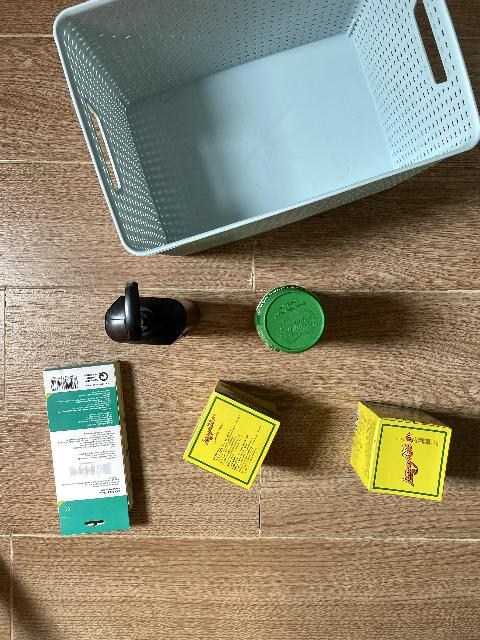4D_medical_face-mask: (43, 360, 134, 537)
X-men: (105, 282, 200, 345)
cart: (52, 0, 480, 258)
luong_kho: (183, 380, 281, 490), (350, 401, 452, 501)
milo: (254, 285, 327, 354)
